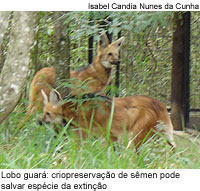LoboGuara: (37, 88, 181, 155), (17, 33, 130, 90)
